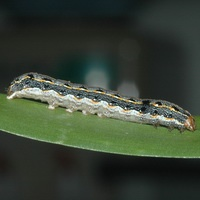insect: (7, 72, 195, 131)
